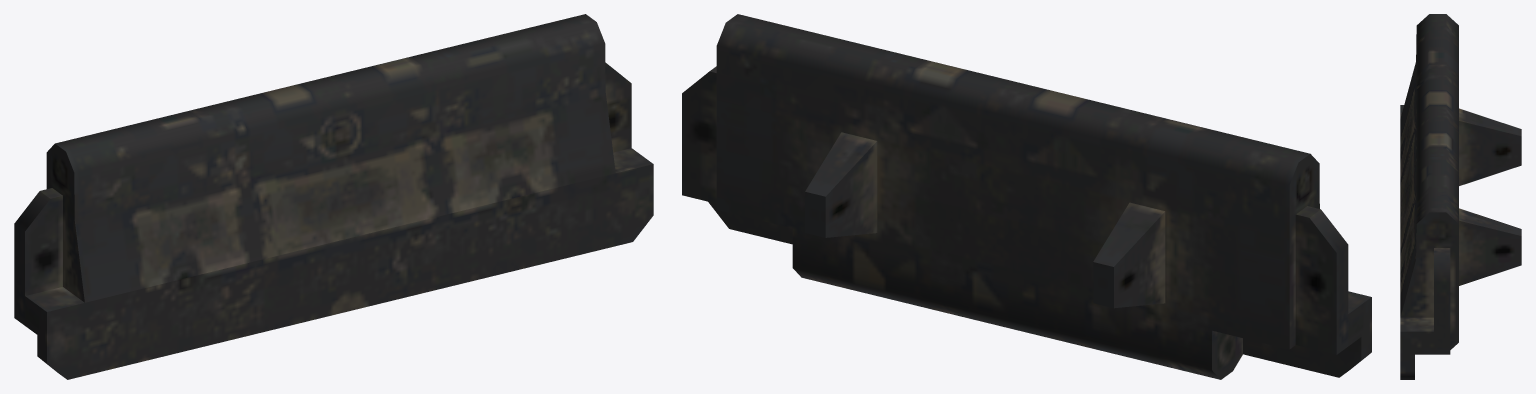
3 views of the same model, side by side, from view 1: azimuth 30°, elevation 25°; view 2: azimuth 150°, elevation 25°; view 3: azimuth 270°, elevation 25° (orthographic). The views are drawn at different scales.
Parts seen in each view (by area): view 1: set_0_group_0; view 2: set_0_group_0; view 3: set_0_group_0.
Boxes of the visible parts, x1,y1,x2,y2 form: set_0_group_0: (14,14,653,379); set_0_group_0: (682,14,1371,379); set_0_group_0: (1400,14,1521,379).
Size of the model in its own units: 0.6 by 0.2071 by 0.1355.
Materials: 1 (1 with a texture image).
